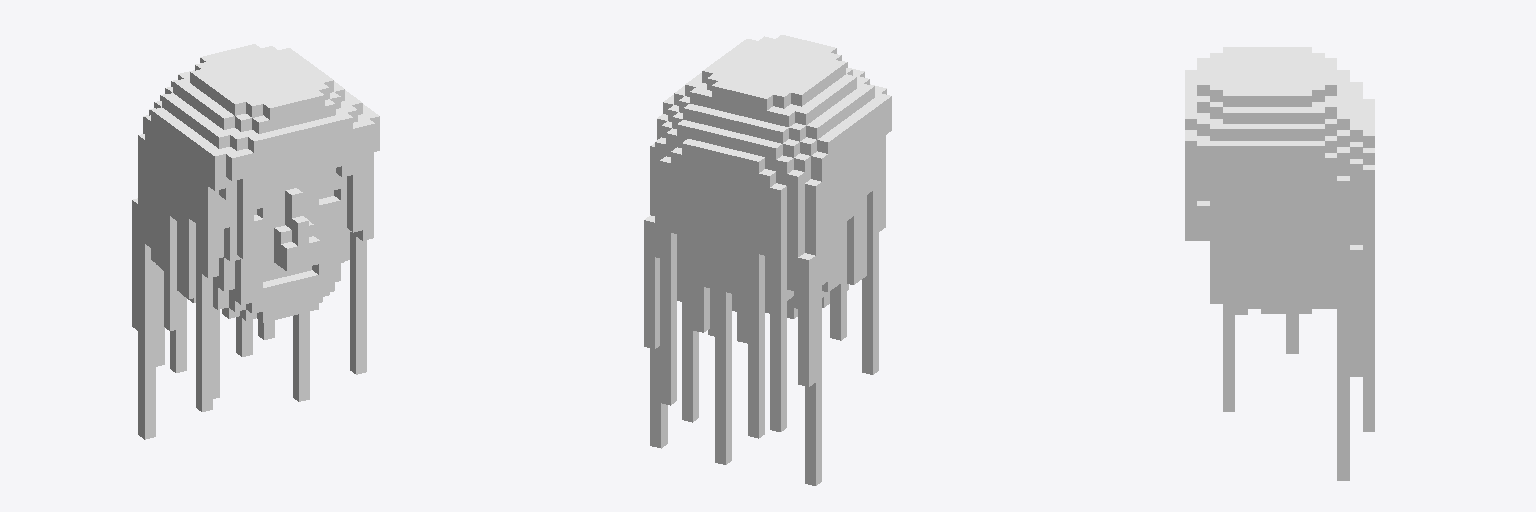
Rendered from human1_head.obj.
The picture shows the model from 3 angles: view 1: azimuth 30°, elevation 25°; view 2: azimuth 150°, elevation 25°; view 3: azimuth 270°, elevation 25°; orthographic projection.
Parts seen in each view (by area): view 1: human1_head; view 2: human1_head; view 3: human1_head.
Boxes of the visible parts, x1=… form: human1_head: x1=132, y1=44, x2=379, y2=439; human1_head: x1=644, y1=35, x2=891, y2=485; human1_head: x1=1185, y1=47, x2=1374, y2=480.
Bounding box in the file's own units: 15 × 32 × 15.